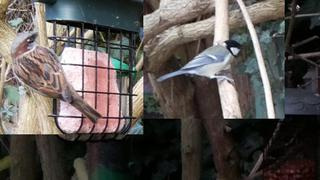great tit: (156, 40, 245, 84)
sparrow: (10, 31, 103, 125)
